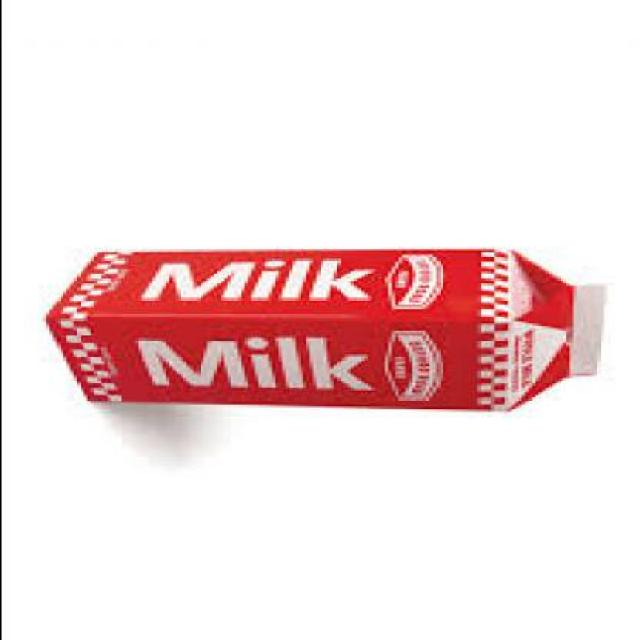CARDBOARD: (48, 248, 609, 409)
